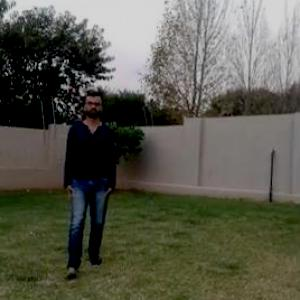follow: (64, 84, 111, 272)
